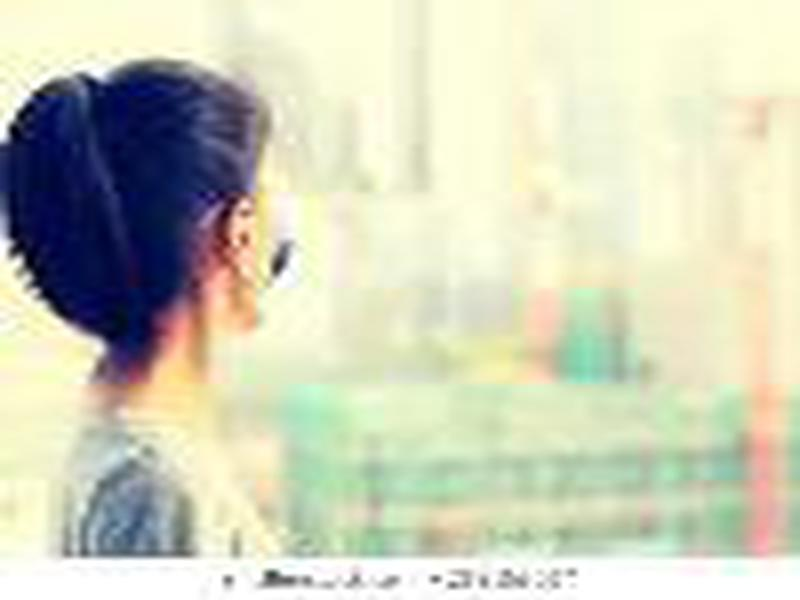with_mask: (87, 55, 318, 361)
